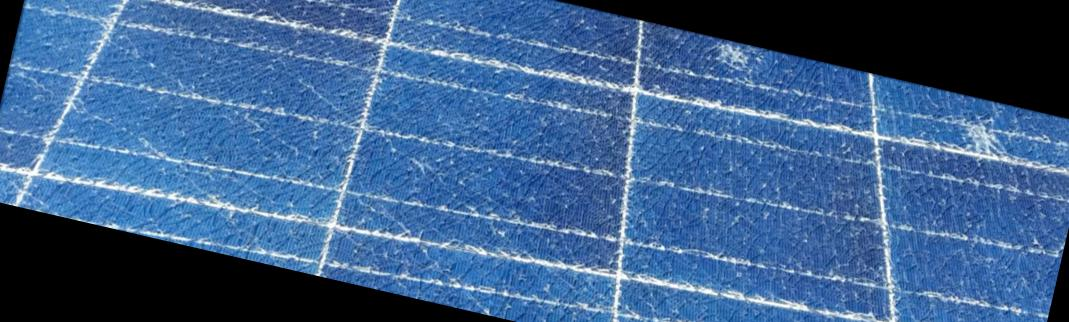Crack: (941, 94, 1024, 180), (700, 36, 773, 90)
